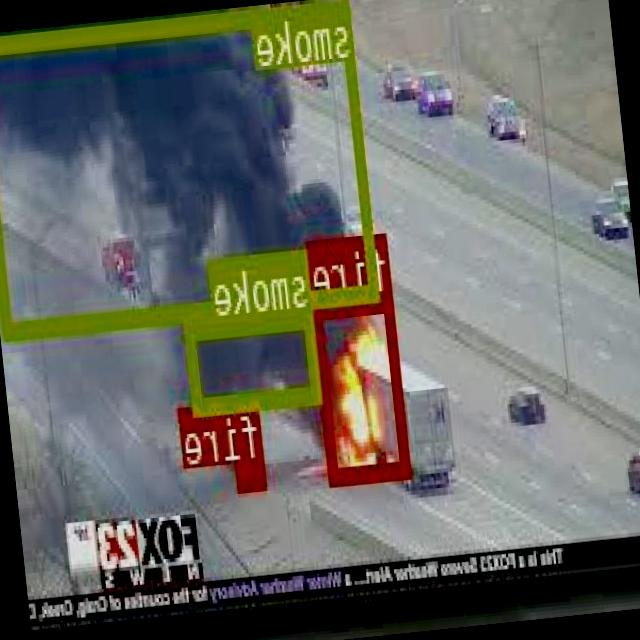fire: (314, 293, 412, 480), (237, 459, 269, 488)
smoke: (0, 0, 381, 335), (186, 306, 323, 414)
